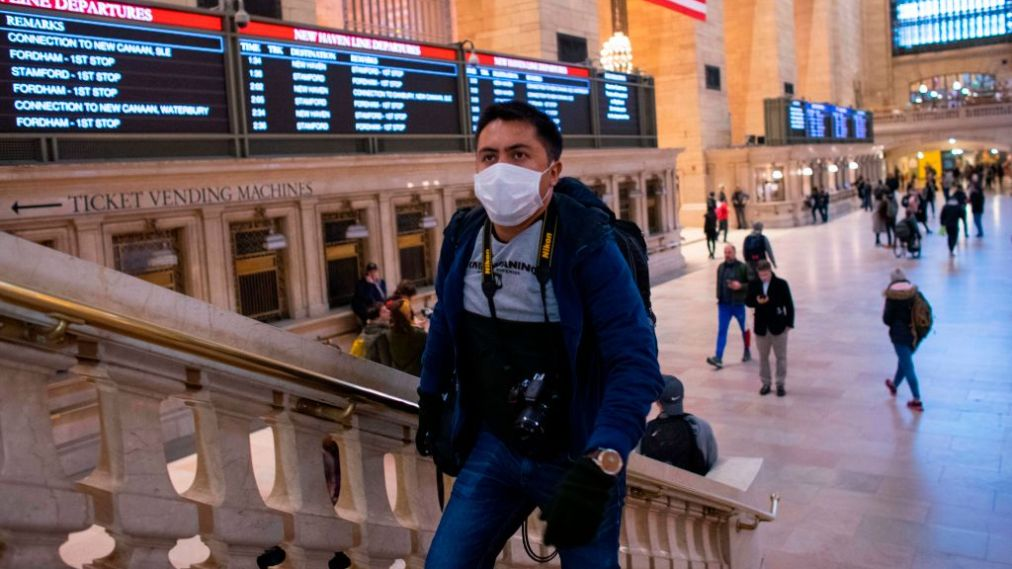surgical: (459, 160, 548, 227)
